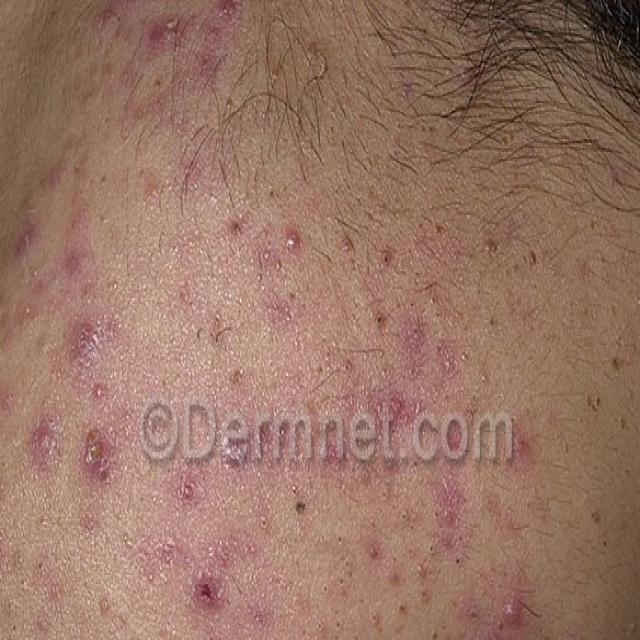Acne: (0, 303, 330, 640), (355, 311, 610, 640), (83, 10, 368, 269)
